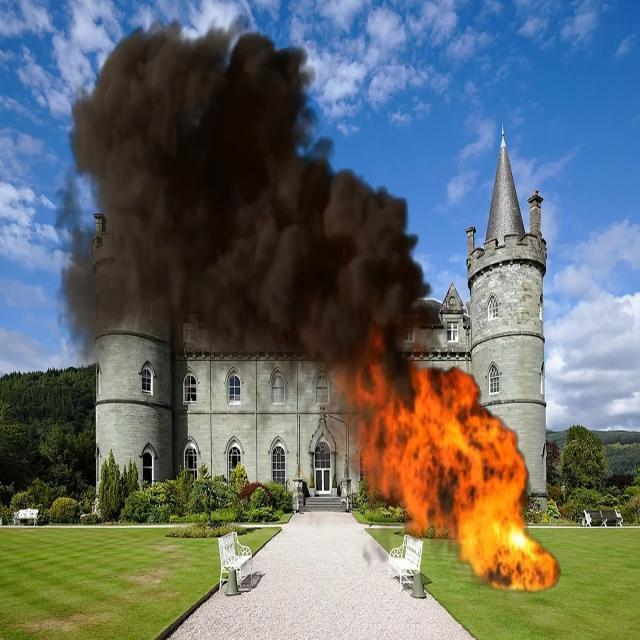Fire: (400, 368, 560, 594)
Smoke: (82, 29, 399, 367)
